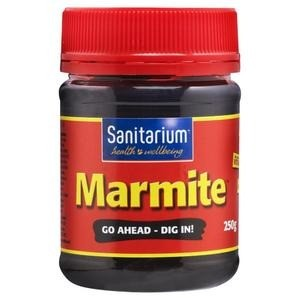yeast spread_brain food: (57, 75, 240, 219)
